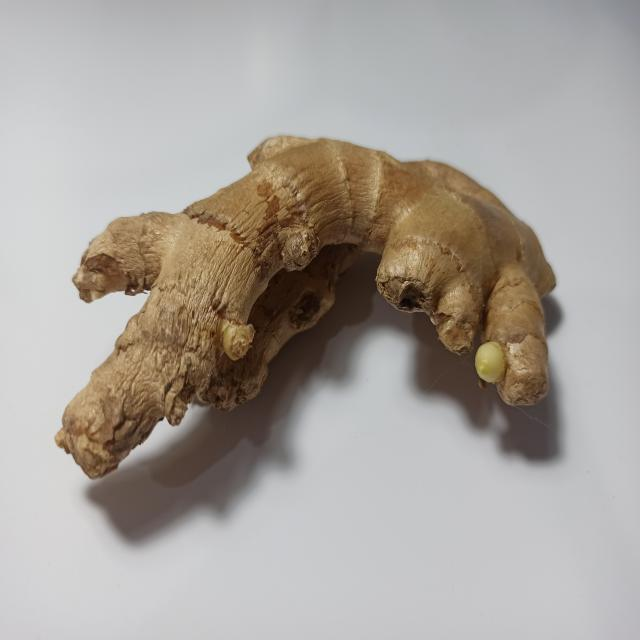ginger: (65, 132, 548, 458)
